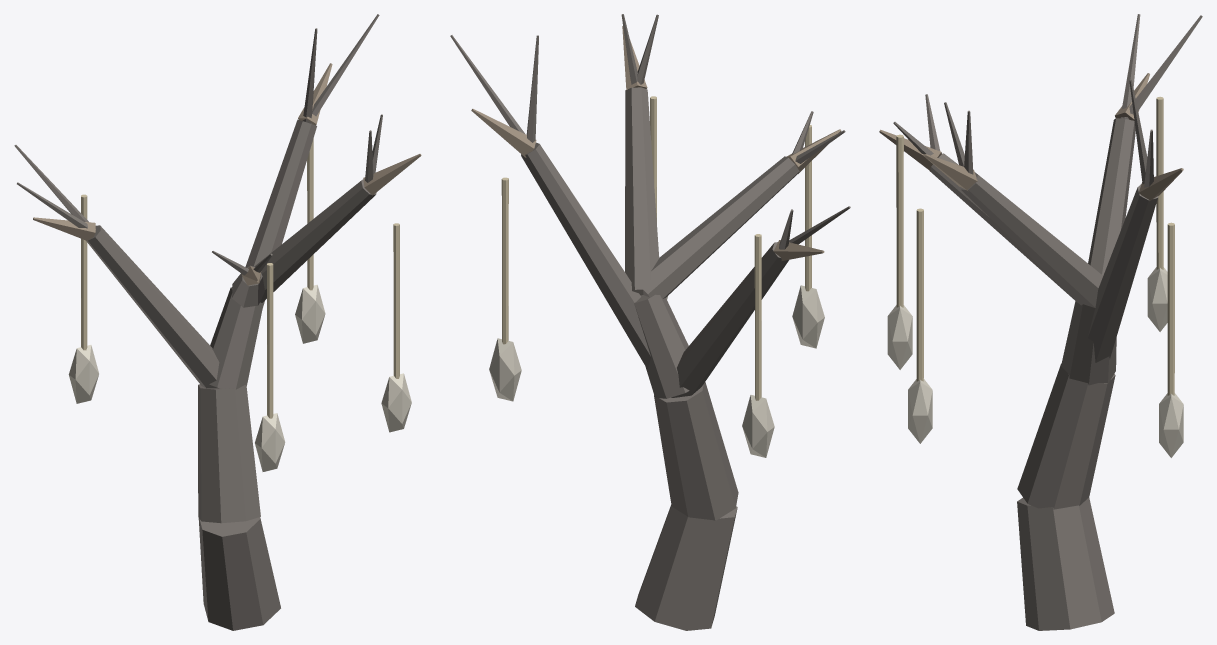
Rendered from bone_chime_tree.glb.
3 renders of one model, left to right at view 1: azimuth 30°, elevation 25°; view 2: azimuth 150°, elevation 25°; view 3: azimuth 270°, elevation 25°, orthographic. The views are drawn at different scales.
Visible parts, largest first — view 1: bone_chime_tree_material_00, bone_chime_tree_material_03, bone_chime_tree_material_02, bone_chime_tree_material_01; view 2: bone_chime_tree_material_00, bone_chime_tree_material_03, bone_chime_tree_material_02, bone_chime_tree_material_01; view 3: bone_chime_tree_material_00, bone_chime_tree_material_02, bone_chime_tree_material_03, bone_chime_tree_material_01.
Boxes of the visible parts, box(x1,y1,x2,y2) form: bone_chime_tree_material_00: box(14, 14, 382, 630); bone_chime_tree_material_03: box(68, 284, 411, 471); bone_chime_tree_material_02: box(81, 138, 399, 418); bone_chime_tree_material_01: box(33, 63, 421, 285); bone_chime_tree_material_00: box(450, 14, 850, 630); bone_chime_tree_material_03: box(489, 285, 824, 457); bone_chime_tree_material_02: box(501, 96, 811, 400); bone_chime_tree_material_01: box(471, 26, 841, 260); bone_chime_tree_material_00: box(893, 14, 1202, 630); bone_chime_tree_material_02: box(896, 96, 1174, 395); bone_chime_tree_material_03: box(887, 267, 1183, 457); bone_chime_tree_material_01: box(879, 73, 1183, 201).
Bounding box in the file's own units: 2.12 × 2.98 × 1.44.
